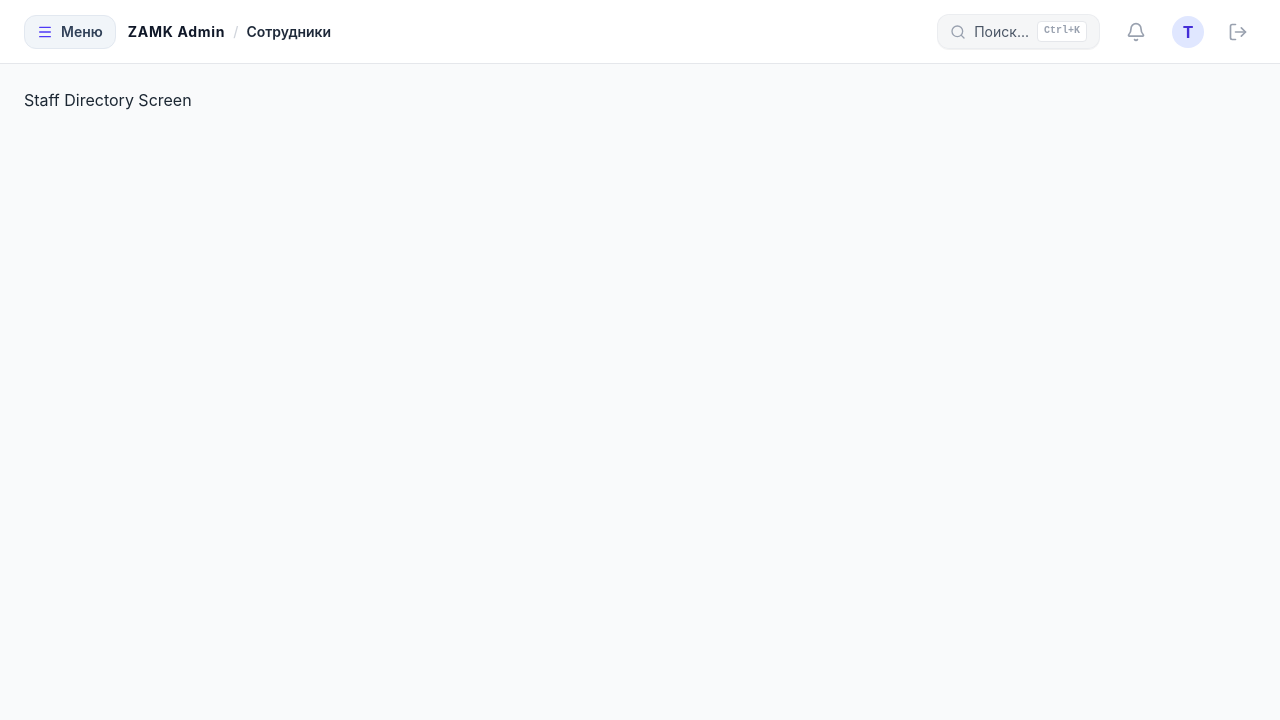
EMP.1C3C2R.2B — Admin Navigation and Route Guards Alignment › L: staff.read exposes Сотрудники in navigation and route guard
Step 1. Click the button with test id "admin-nav-trigger" → (70,32), box [24,14,116,48]
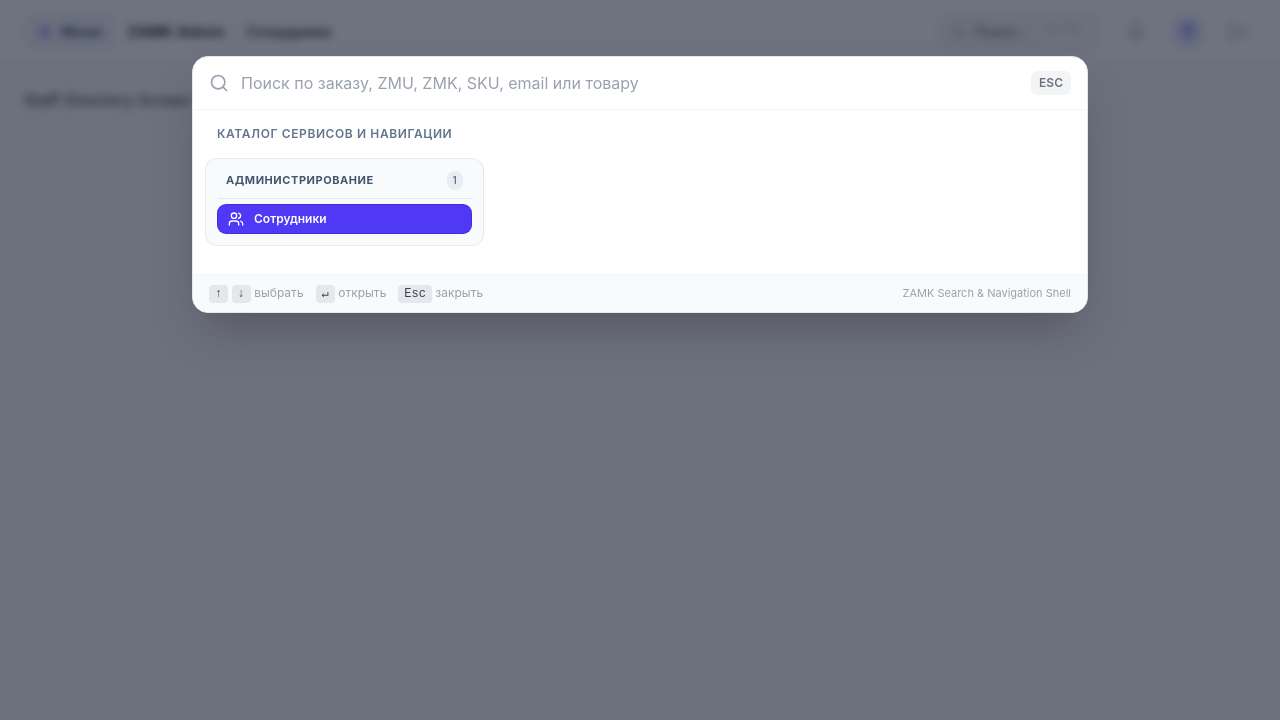
Check: the text "Staff Directory Screen" is shown, box [24,90,192,110]
Check: the text "Сотрудники" is shown, box [254,211,327,227]
